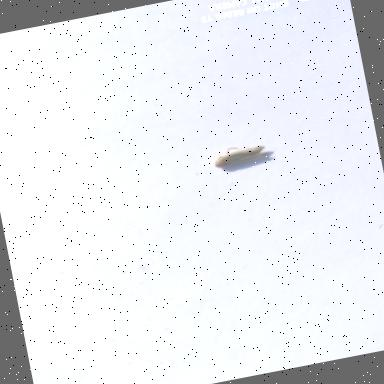pbw: (210, 138, 275, 174)
